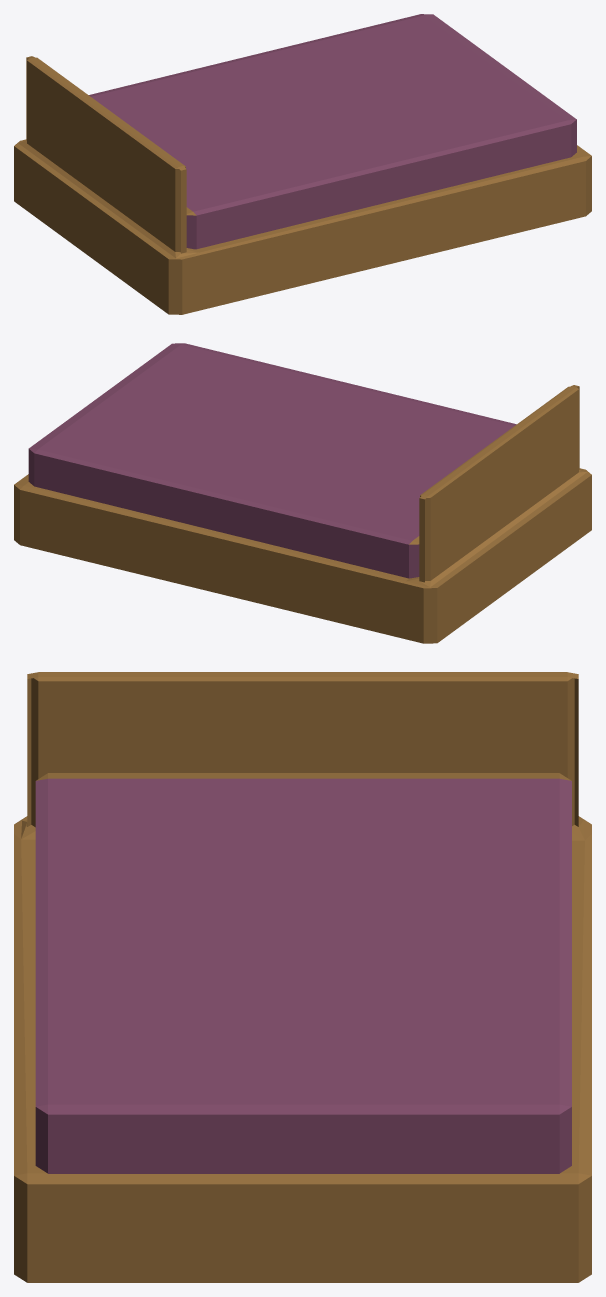
Rendered from Bed_Material.fbx.
3 renders of one model, top to bottom at view 1: azimuth 30°, elevation 25°; view 2: azimuth 150°, elevation 25°; view 3: azimuth 270°, elevation 25°, orthographic. The views are drawn at different scales.
Parts seen in each view (by area): view 1: Bed; view 2: Bed; view 3: Bed.
Part boxes in pixels (box(x1,y1,x2,y2)): Bed: box(14, 14, 591, 314); Bed: box(14, 343, 591, 643); Bed: box(14, 672, 591, 1282).
Size of the model in its own units: 2.62 by 0.8476 by 1.74.
